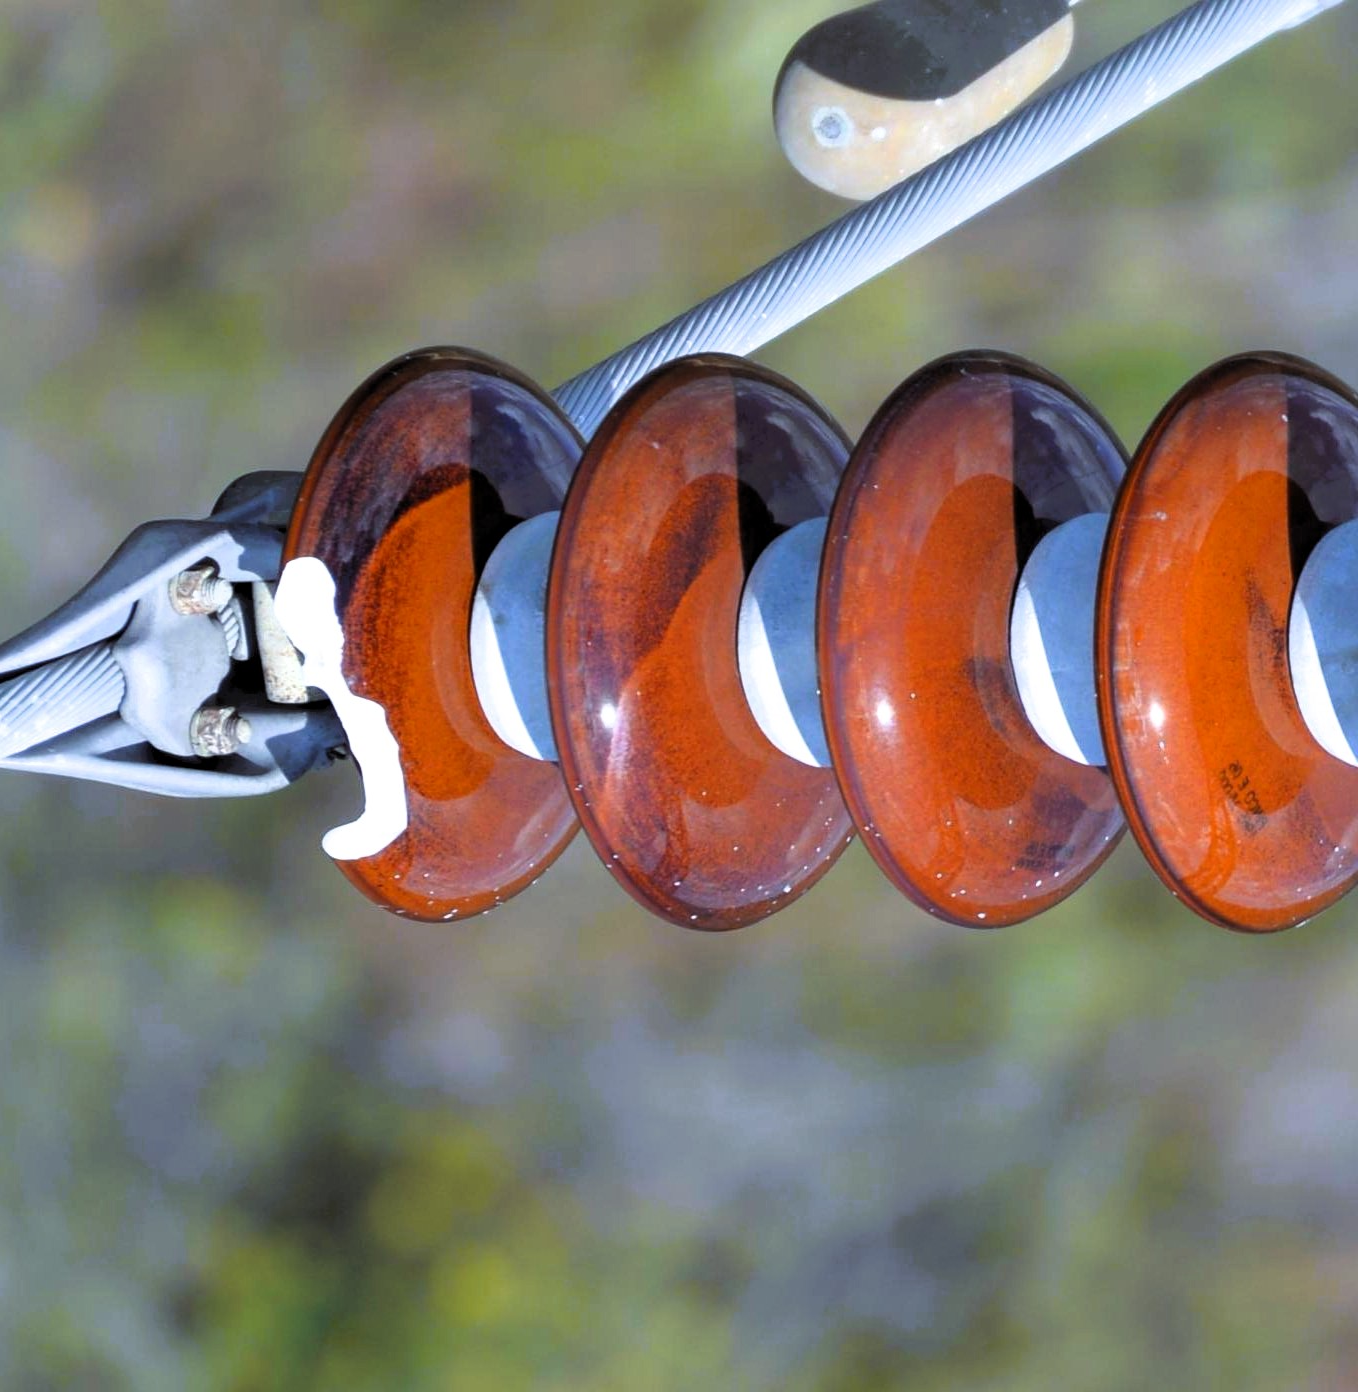insulator breakage: (257, 338, 582, 928)
